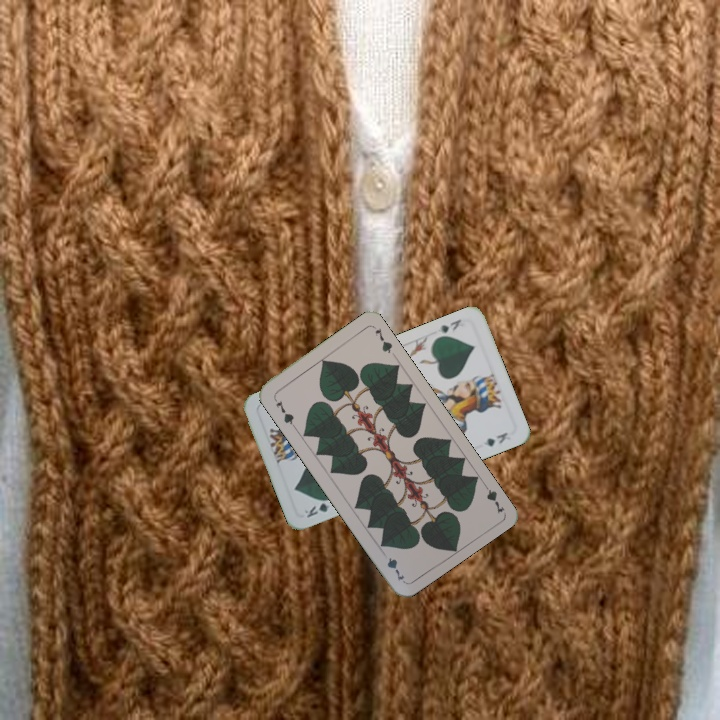G7: (478, 477, 507, 516), (270, 393, 298, 429)
GK: (300, 493, 337, 520), (433, 315, 464, 336)
